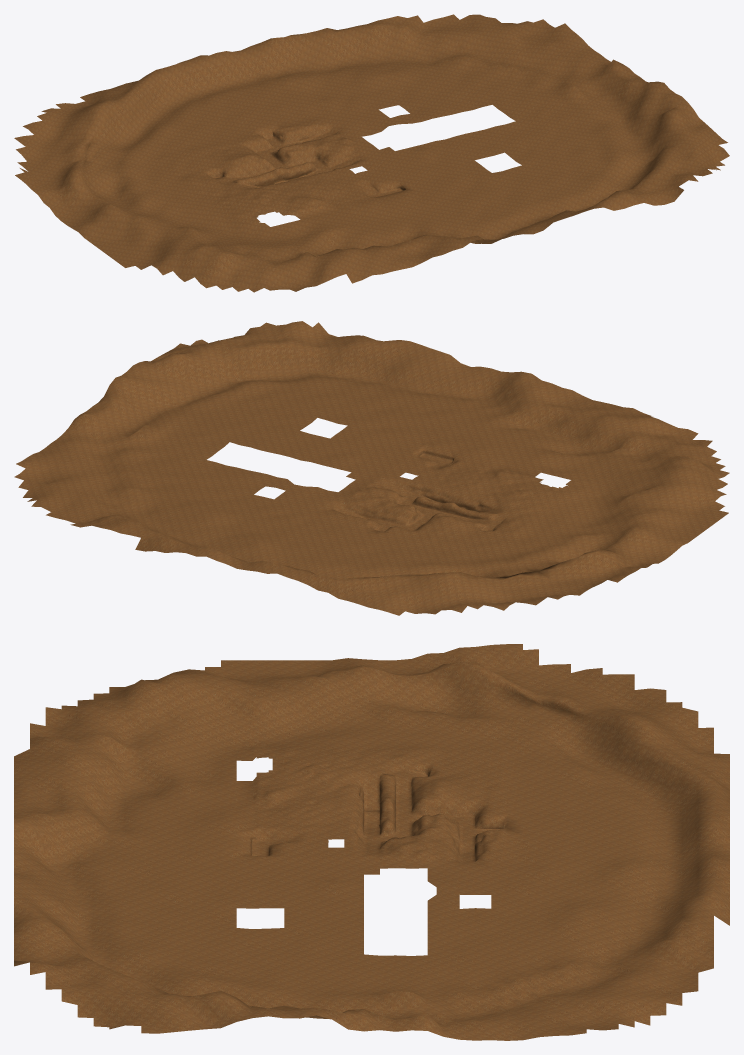
File: terrain.dae
3 renders of one model, top to bottom at view 1: azimuth 30°, elevation 25°; view 2: azimuth 150°, elevation 25°; view 3: azimuth 270°, elevation 25°, orthographic. The views are drawn at different scales.
Parts seen in each view (by area): view 1: terrain; view 2: terrain; view 3: terrain.
Boxes of the visible parts, x1,y1,x2,y2 form: terrain: [14, 14, 729, 292]; terrain: [14, 321, 729, 615]; terrain: [14, 644, 729, 1040].
Size of the model in its own units: 171 by 135 by 9.95.
Materials: 1 (1 with a texture image).
